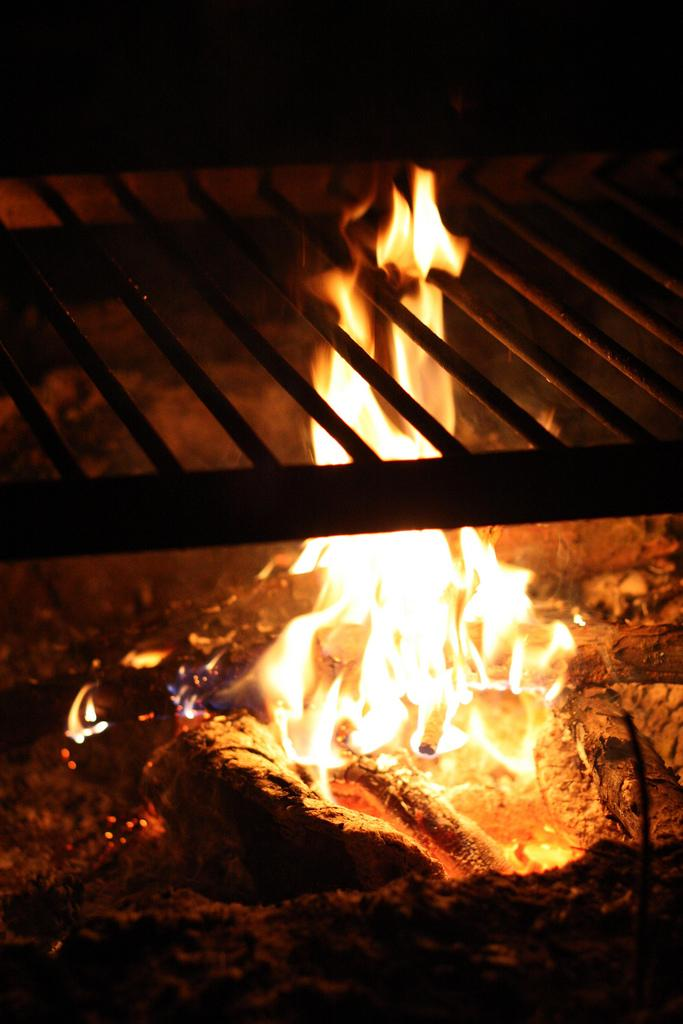fire: (302, 535, 552, 768)
